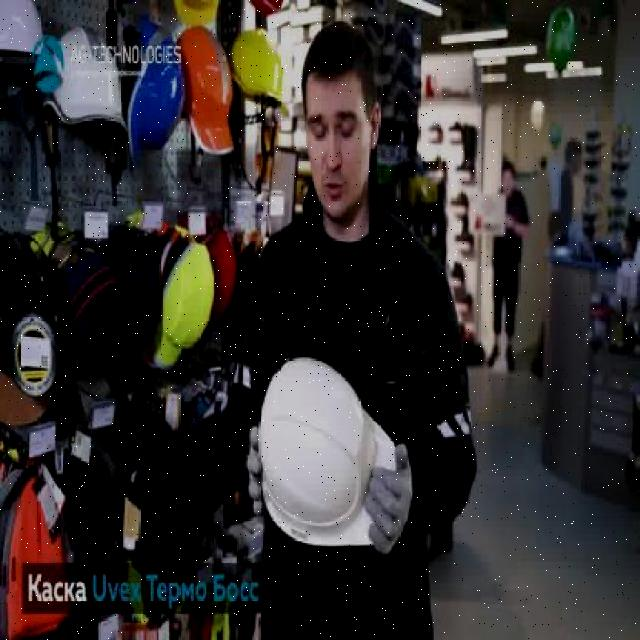Gloves: (368, 440, 414, 562), (248, 426, 264, 512)
Helmet: (258, 352, 398, 552), (123, 11, 186, 166), (43, 24, 128, 134), (176, 23, 235, 156), (231, 28, 291, 122), (0, 0, 54, 71)
